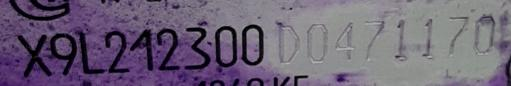letter: (14, 31, 53, 76), (47, 29, 79, 77), (182, 23, 212, 70), (102, 29, 134, 73), (78, 28, 108, 74), (127, 25, 156, 71), (444, 12, 472, 58), (359, 16, 387, 62), (154, 25, 182, 71), (303, 21, 331, 65), (213, 23, 239, 69), (240, 22, 265, 68), (276, 21, 302, 65), (472, 13, 499, 55), (389, 16, 412, 62), (334, 18, 357, 62), (420, 15, 439, 63)
